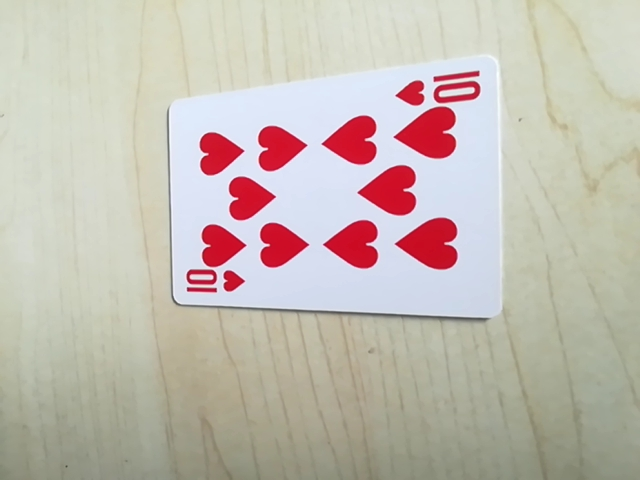hx 10: (396, 64, 485, 109), (178, 267, 247, 303)
